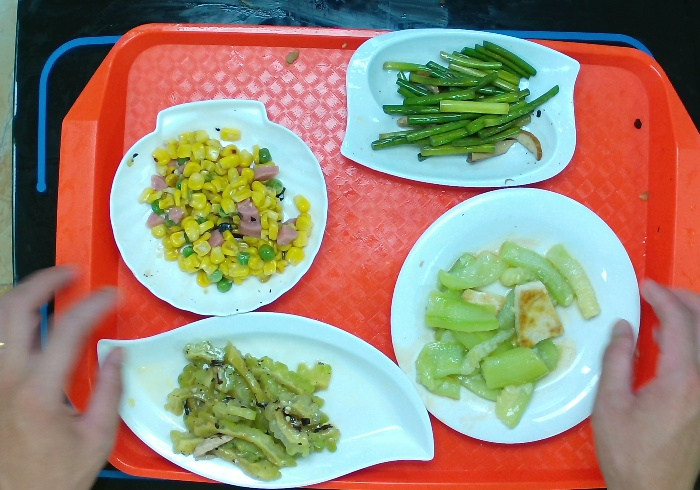RJxy-Bei_Ke_Wan: (102, 98, 329, 315)
RJxy-Jian_Jiao_Fang_Die: (336, 24, 583, 193)
RJxy-Jian_Jiao_Pan: (92, 315, 435, 490)
RJxy-Yuan_Pan: (388, 188, 647, 446)
